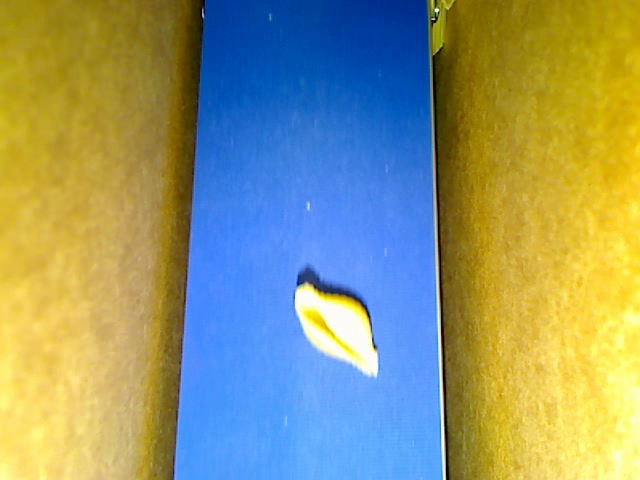penne: (428, 1, 445, 58), (437, 1, 456, 11)
shell: (289, 280, 380, 378)
